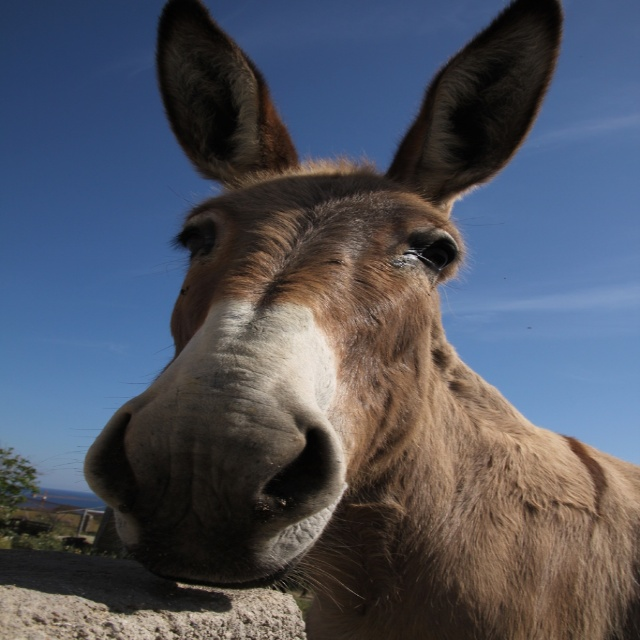Mule: (75, 0, 639, 640)
